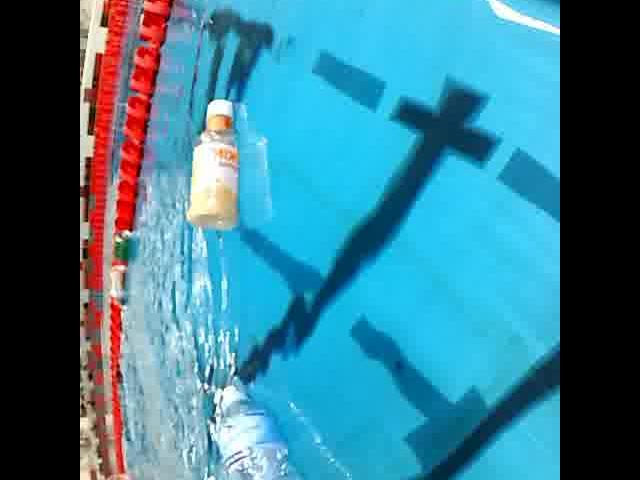Bottle: (208, 379, 348, 480), (182, 96, 250, 241)
Can: (112, 223, 132, 260)
